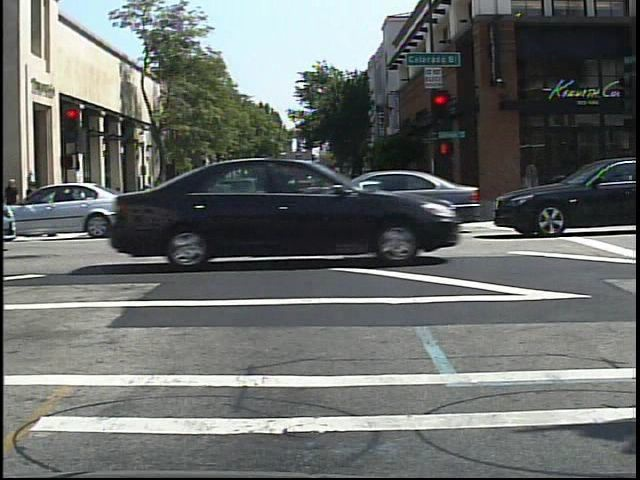person: (139, 181, 155, 216), (135, 181, 150, 213)
